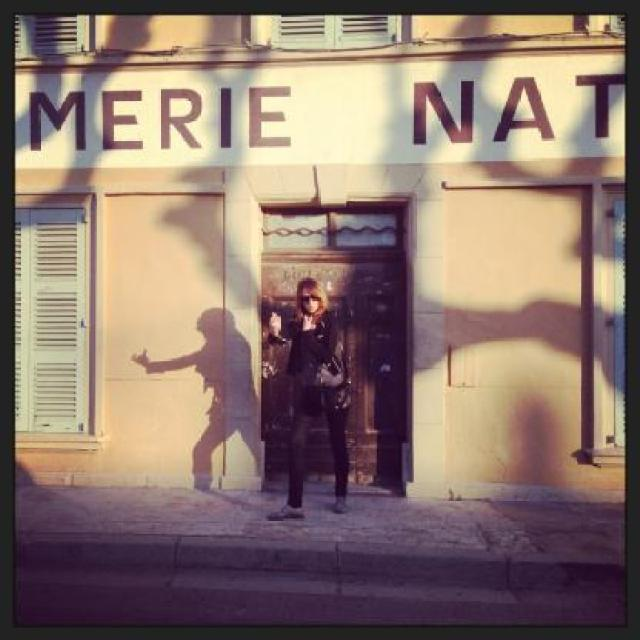Person: (272, 272, 352, 511)
